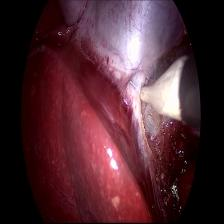Hook: (125, 55, 186, 128)
